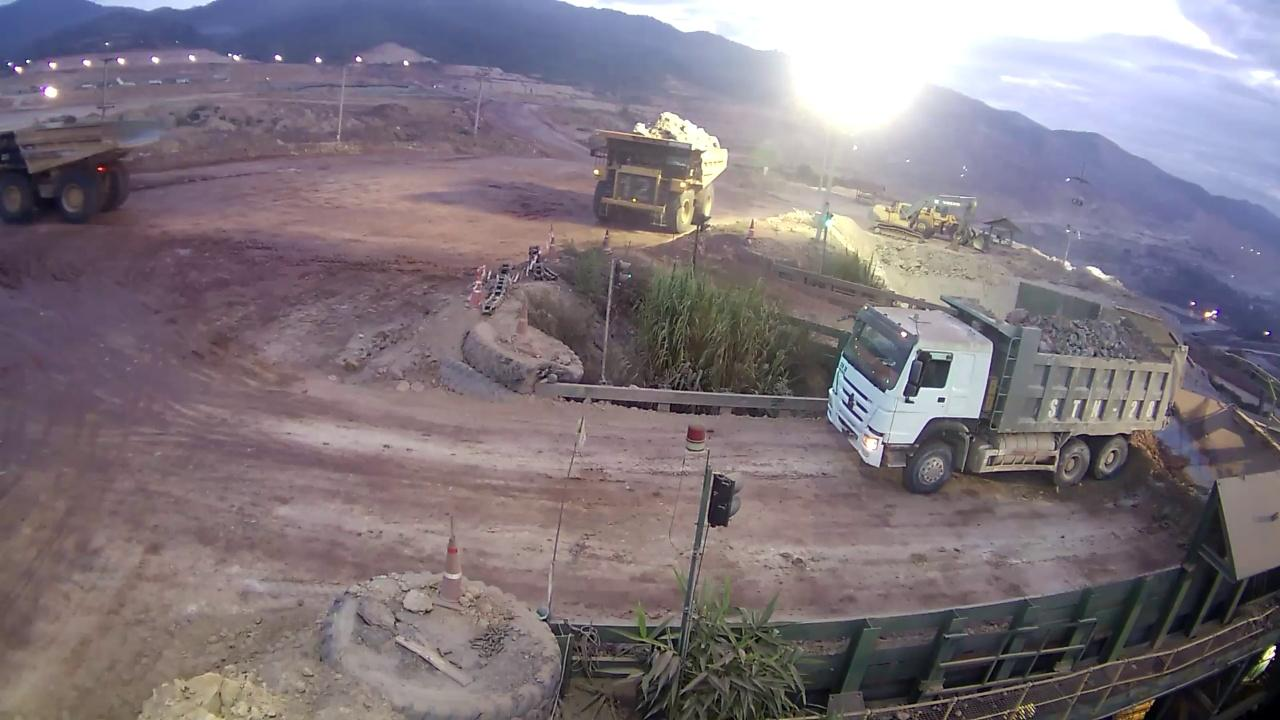front_number: (616, 170, 656, 206)
full_load: (636, 111, 717, 149)
mining_truck: (0, 108, 178, 217), (583, 109, 731, 234)
